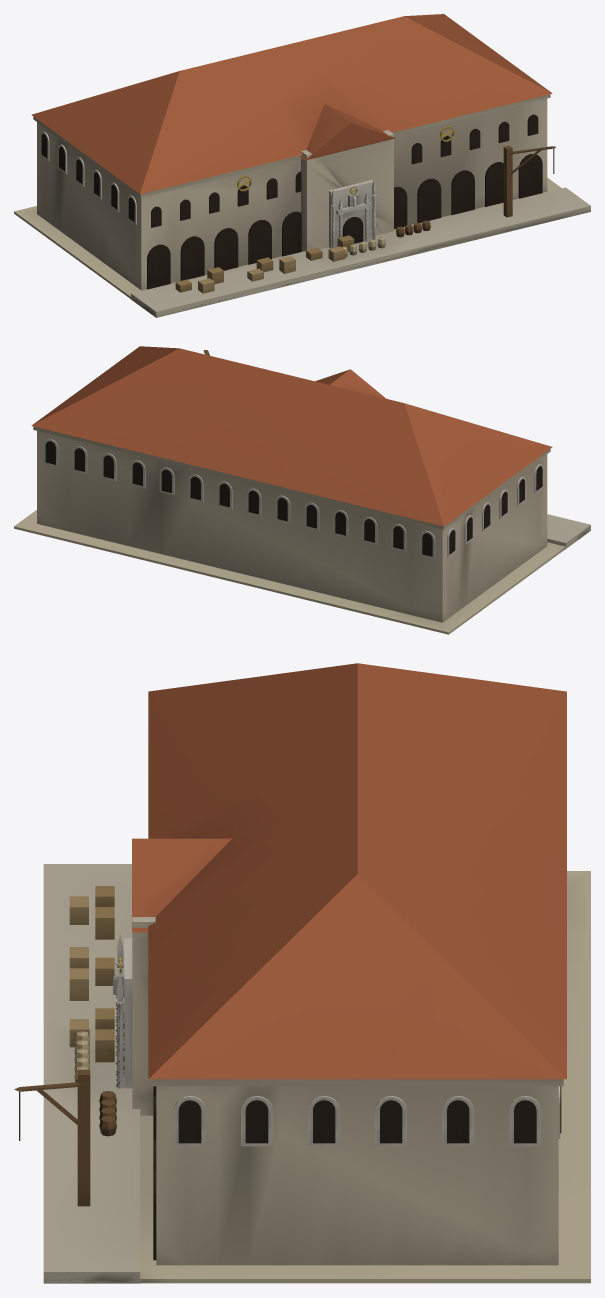
File: casa-da-india.glb
3 views of the same model, one above another, from view 1: azimuth 30°, elevation 25°; view 2: azimuth 150°, elevation 25°; view 3: azimuth 270°, elevation 25° (orthographic). The views are drawn at different scales.
Visible parts, largest first — view 1: p1_warehouse, p0_quay, p2_cargo; view 2: p1_warehouse, p0_quay; view 3: p1_warehouse, p0_quay, p2_cargo.
Part boxes in pixels (x1,y1,x2,y2): p1_warehouse: [31, 14, 552, 290]; p0_quay: [14, 178, 590, 317]; p2_cargo: [175, 145, 555, 293]; p1_warehouse: [31, 346, 552, 622]; p0_quay: [14, 510, 590, 634]; p1_warehouse: [113, 663, 566, 1265]; p0_quay: [43, 864, 590, 1283]; p2_cargo: [14, 886, 116, 1206].
Bounding box in the file's own units: 60 × 21.32 × 35.85.
